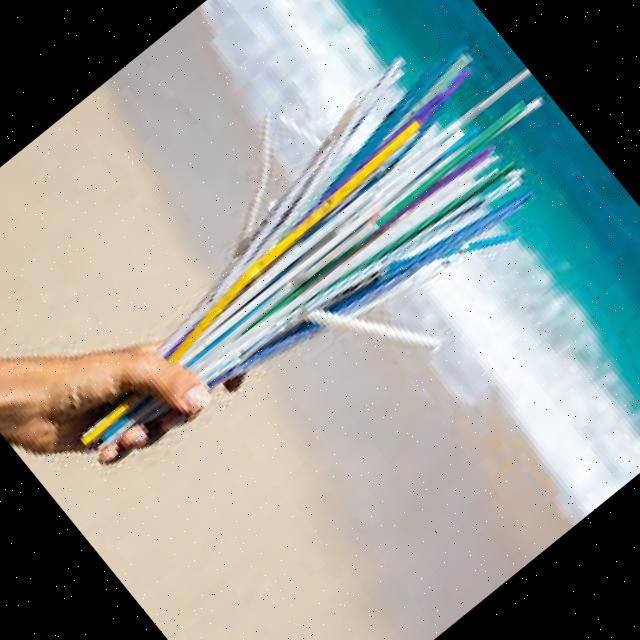plastic: (125, 88, 346, 296)
